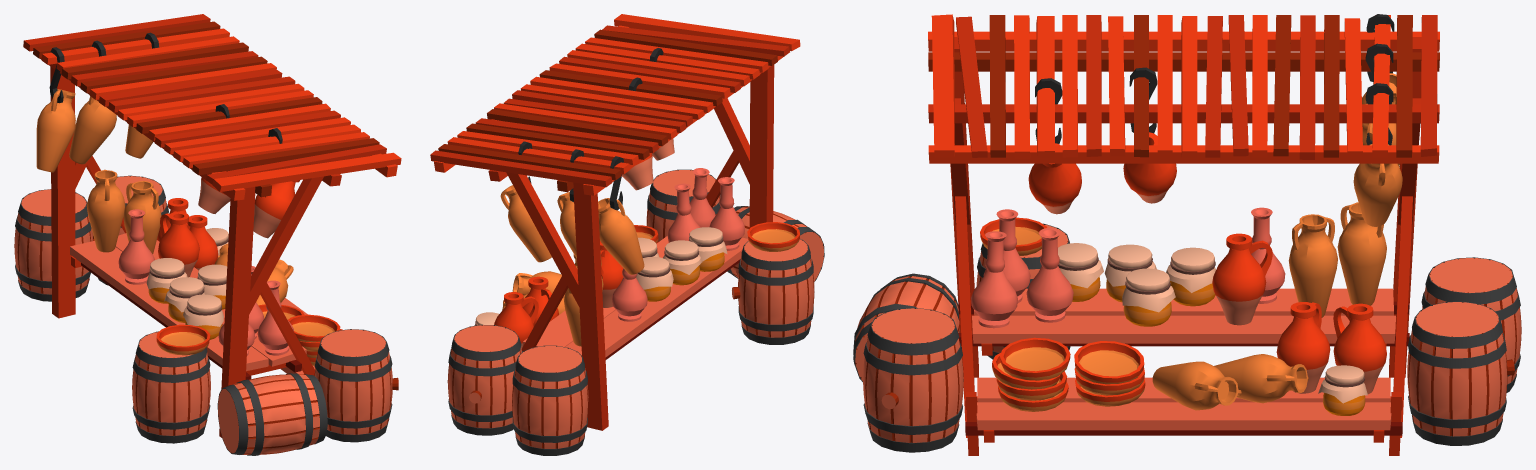
The model's file is winter_castle_marketstall1.glb.
3 renders of one model, left to right at view 1: azimuth 30°, elevation 25°; view 2: azimuth 150°, elevation 25°; view 3: azimuth 270°, elevation 25°, orthographic. The views are drawn at different scales.
Visible parts, largest first — view 1: MarketStall1_Medieval_0; view 2: MarketStall1_Medieval_0; view 3: MarketStall1_Medieval_0.
Part boxes in pixels (bbox=[...]): MarketStall1_Medieval_0: bbox=[14, 14, 401, 455]; MarketStall1_Medieval_0: bbox=[430, 14, 824, 455]; MarketStall1_Medieval_0: bbox=[853, 14, 1521, 455].
Bounding box in the file's own units: 1.28 × 1.46 × 2.54.
1 material, 1 textured.
